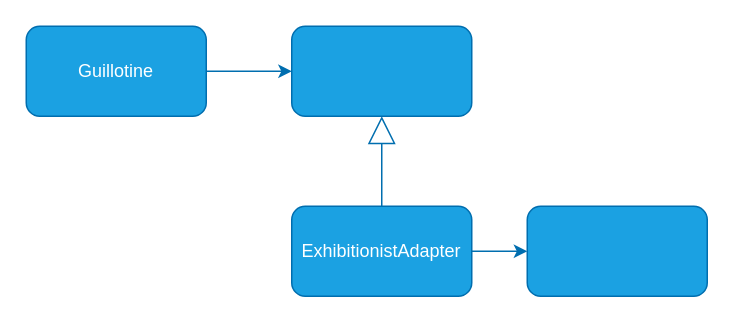
Image size: 734x323. Some labels were removed from this diagram. The box of each missing label's shape, as (x1, y1, x2, y2) in pixels:
BadGuy: (290, 25, 472, 116)
Exhibitionist: (526, 205, 707, 296)
